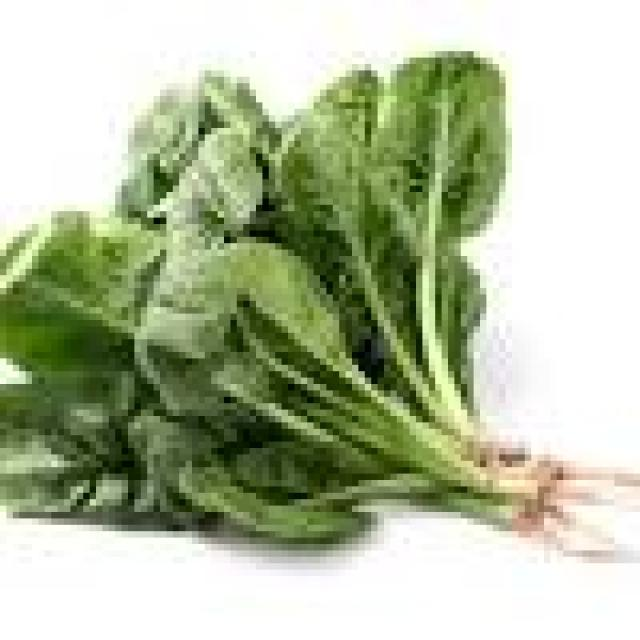Wet Waste: (0, 47, 565, 558)
